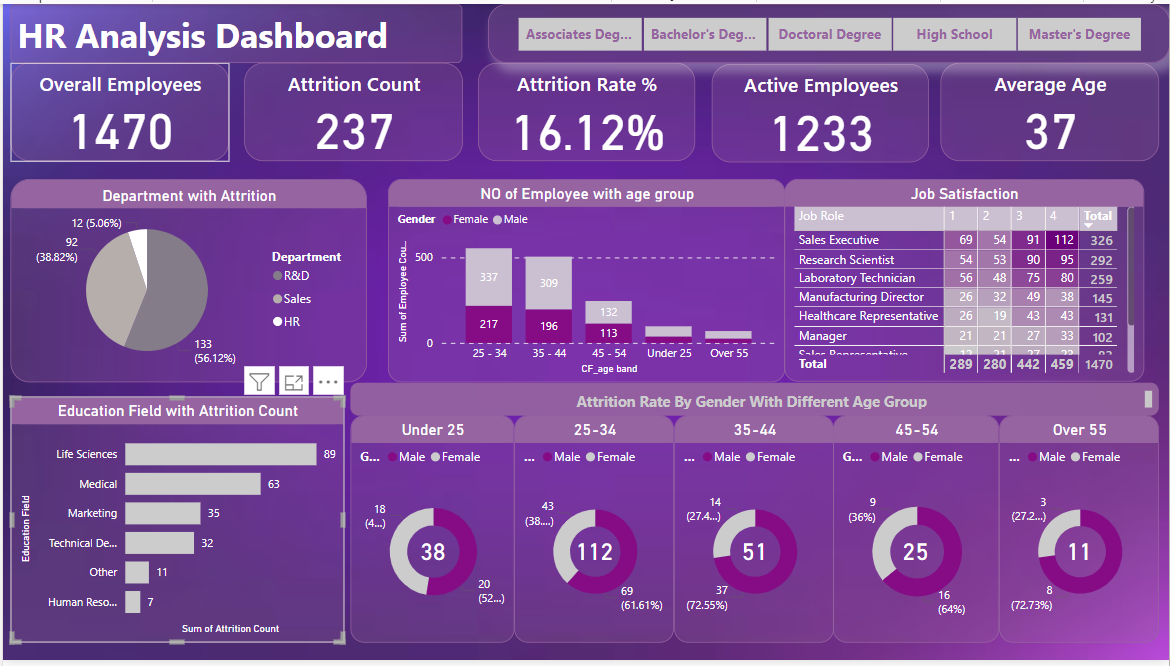

This screenshot's page, from the dashboard's own definition file:
{"tool":"powerbi","page":{"name":"Page 1","canvas":[1280,720],"ordinal":0},"visuals":[{"type":"card","title":"Overall Employees","fields":{"Values":["Sum(HR data.Employee Count)"]},"box":[8.2,75.5,240.1,98.8],"z":0},{"type":"card","title":"Attrition Count","fields":{"Values":["Sum(HR data.Attrition Count)"]},"box":[259.3,75.5,238.8,100.2],"z":1000},{"type":"card","title":"Active Employees","fields":{"Values":["HR data.Active Employee"]},"box":[778,75.5,237.4,98.8],"z":2000},{"type":"card","title":"Attrition Rate %","fields":{"Values":["HR data.Attrition Rate"]},"box":[521.4,75.5,238.8,97.4],"z":3000},{"type":"card","title":"Average Age","fields":{"Values":["Avg(HR data.Age)"]},"box":[1029.2,75.5,238.8,97.4],"z":4000},{"type":"pieChart","title":"Department with Attrition","fields":{"Category":["HR data.Department"],"Y":["Sum(HR data.Attrition Count)"]},"box":[8.2,192.1,366.4,222.3],"z":5000},{"type":"columnChart","title":"NO of Employee with age group","fields":{"Category":["HR data.CF_age band"],"Y":["Sum(HR data.Employee Count)"],"Series":["HR data.Gender"]},"box":[422.3,191.9,436,223.5],"z":6000},{"type":"pivotTable","title":"Job Satisfaction","fields":{"Rows":["HR data.Job Role"],"Columns":["HR data.Job Satisfaction"],"Values":["Sum(HR data.Employee Count)"]},"box":[872.7,192.1,395.2,222.3],"z":7000},{"type":"clusteredBarChart","title":"Education Field with Attrition Count","fields":{"Category":["HR data.Education Field"],"Y":["Sum(HR data.Attrition Count)"]},"box":[8.2,430.5,366.1,270.1],"z":8000},{"type":"donutChart","title":"Under 25","fields":{"Y":["Sum(HR data.Attrition Count)"],"Category":["HR data.Gender"],"Series":["HR data.CF_age band"]},"box":[381.5,465.2,179.8,236],"z":9000},{"type":"donutChart","title":"35-44","fields":{"Y":["Sum(HR data.Attrition Count)"],"Category":["HR data.Gender"],"Series":["HR data.CF_age band"]},"box":[736.9,465.2,174.3,236],"z":10000},{"type":"donutChart","title":"45-54","fields":{"Y":["Sum(HR data.Attrition Count)"],"Category":["HR data.Gender"],"Series":["HR data.CF_age band"]},"box":[911.2,465.2,182.5,236],"z":11000},{"type":"donutChart","title":"Over 55","fields":{"Category":["HR data.Gender"],"Series":["HR data.CF_age band"],"Y":["Sum(HR data.Attrition Count)"]},"box":[1093.7,465.2,175.6,236],"z":12000},{"type":"donutChart","title":"25-34","fields":{"Y":["Sum(HR data.Attrition Count)"],"Category":["HR data.Gender"],"Series":["HR data.CF_age band"]},"box":[561.2,465.2,175.6,236],"z":13000},{"type":"textbox","box":[381.5,429.5,886.5,35.7],"z":14000},{"type":"textbox","box":[8.2,0,496.3,64.4],"z":15000},{"type":"card","fields":{"Values":["Sum(HR data.Attrition Count)"]},"box":[445.6,575.8,52.1,48],"z":16000},{"type":"card","fields":{"Values":["Sum(HR data.Attrition Count)"]},"box":[622.5,575.8,52.1,48],"z":17000},{"type":"card","fields":{"Values":["Sum(HR data.Attrition Count)"]},"box":[797.9,575.8,52.1,48],"z":18000},{"type":"card","fields":{"Values":["Sum(HR data.Attrition Count)"]},"box":[976.2,575.8,52.1,48],"z":19000},{"type":"card","fields":{"Values":["Sum(HR data.Attrition Count)"]},"box":[1155.8,575.8,52.1,48],"z":20000},{"type":"slicer","fields":{"Values":["HR data.Education"]},"box":[532,0,748.6,64.4],"z":21000}]}

Visuals, with their boxes in screenshot pixels (x1, y1, x2, y2), scaled from the page's 1280x720 canvas onto the 1170x666 screenshot:
"Overall Employees" card: {"x1": 7, "y1": 70, "x2": 227, "y2": 161}
"Attrition Count" card: {"x1": 237, "y1": 70, "x2": 455, "y2": 163}
"Active Employees" card: {"x1": 711, "y1": 70, "x2": 928, "y2": 161}
"Attrition Rate %" card: {"x1": 477, "y1": 70, "x2": 695, "y2": 160}
"Average Age" card: {"x1": 941, "y1": 70, "x2": 1159, "y2": 160}
"Department with Attrition" pieChart: {"x1": 7, "y1": 178, "x2": 342, "y2": 383}
"NO of Employee with age group" columnChart: {"x1": 386, "y1": 178, "x2": 785, "y2": 384}
"Job Satisfaction" pivotTable: {"x1": 798, "y1": 178, "x2": 1159, "y2": 383}
"Education Field with Attrition Count" clusteredBarChart: {"x1": 7, "y1": 398, "x2": 342, "y2": 648}
"Under 25" donutChart: {"x1": 349, "y1": 430, "x2": 513, "y2": 649}
"35-44" donutChart: {"x1": 674, "y1": 430, "x2": 833, "y2": 649}
"45-54" donutChart: {"x1": 833, "y1": 430, "x2": 1000, "y2": 649}
"Over 55" donutChart: {"x1": 1000, "y1": 430, "x2": 1160, "y2": 649}
"25-34" donutChart: {"x1": 513, "y1": 430, "x2": 673, "y2": 649}
textbox: {"x1": 349, "y1": 397, "x2": 1159, "y2": 430}
textbox: {"x1": 7, "y1": 0, "x2": 461, "y2": 60}
card - Sum(HR data.Attrition Count): {"x1": 407, "y1": 533, "x2": 455, "y2": 577}
card - Sum(HR data.Attrition Count): {"x1": 569, "y1": 533, "x2": 617, "y2": 577}
card - Sum(HR data.Attrition Count): {"x1": 729, "y1": 533, "x2": 777, "y2": 577}
card - Sum(HR data.Attrition Count): {"x1": 892, "y1": 533, "x2": 940, "y2": 577}
card - Sum(HR data.Attrition Count): {"x1": 1056, "y1": 533, "x2": 1104, "y2": 577}
slicer - HR data.Education: {"x1": 486, "y1": 0, "x2": 1169, "y2": 60}
